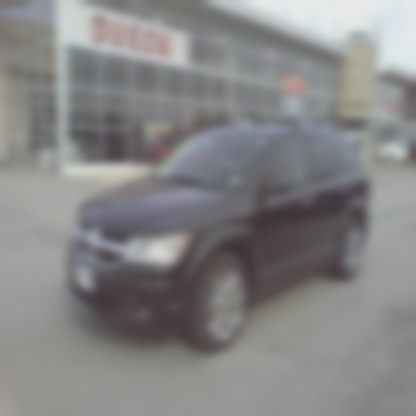Vehicle: (65, 119, 372, 350)
